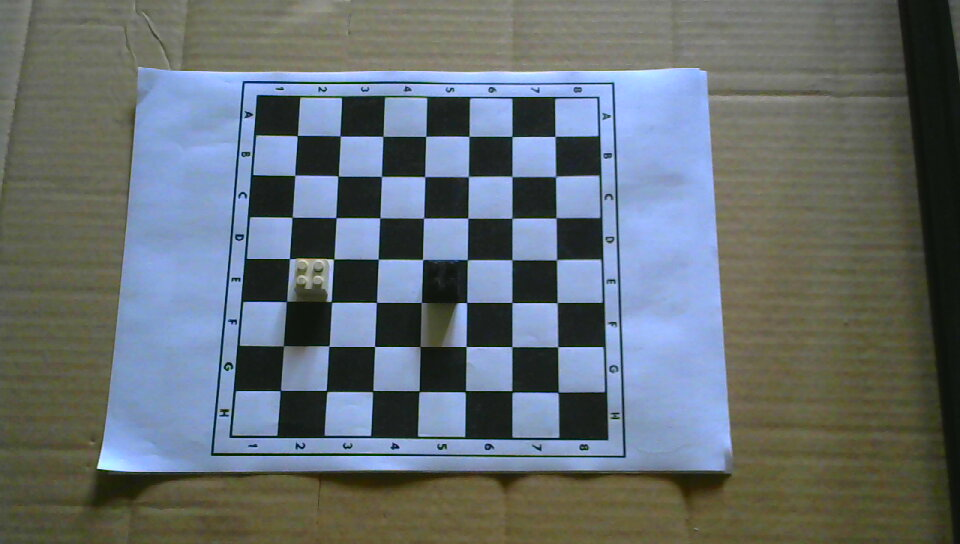bp: (425, 258, 464, 299)
wp: (293, 258, 331, 298)
